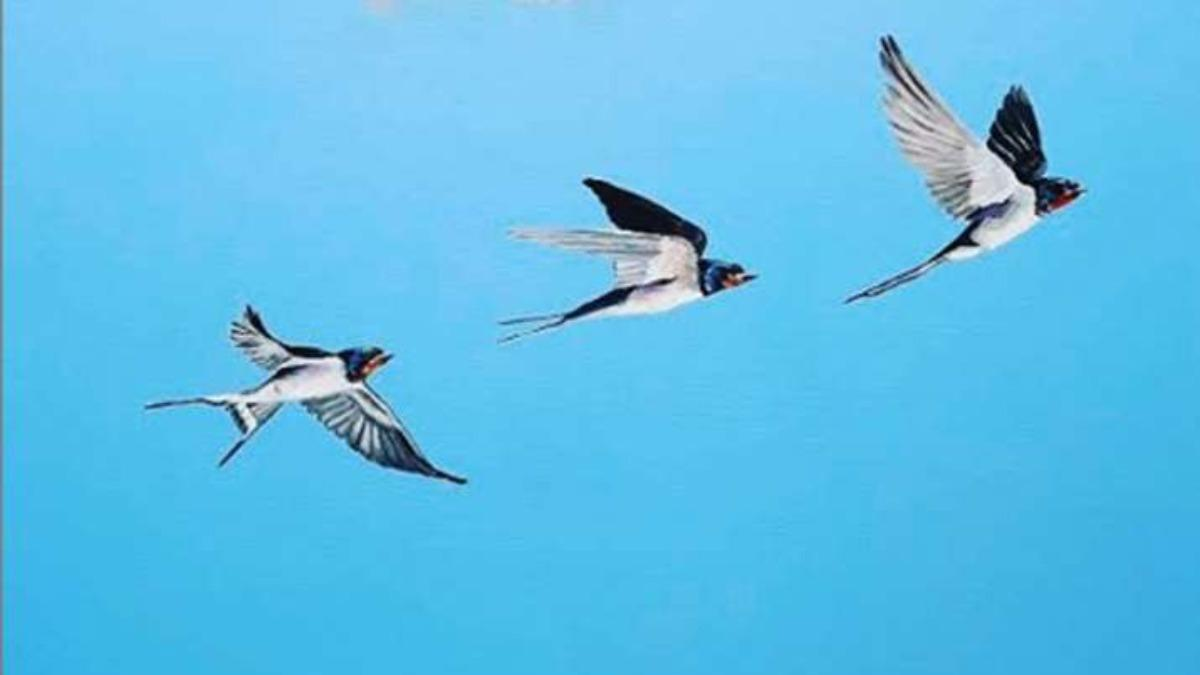bird: (125, 287, 474, 525), (819, 24, 1099, 317), (481, 167, 767, 355)
